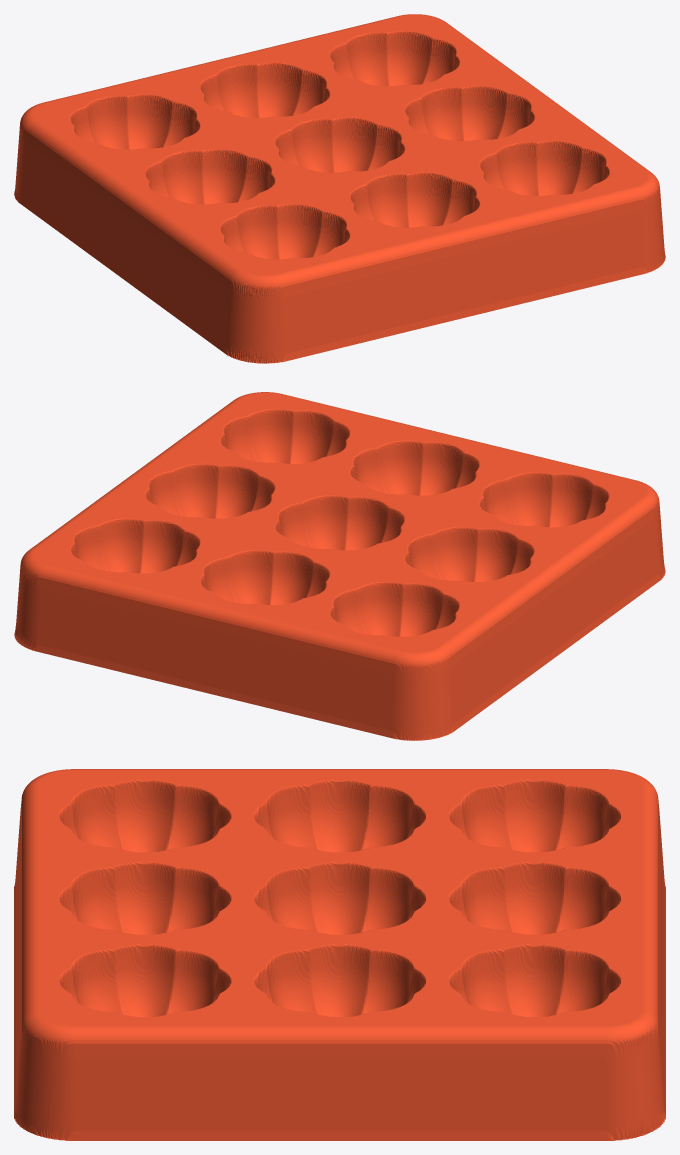
The model's file is mold.glb.
3 renders of one model, top to bottom at view 1: azimuth 30°, elevation 25°; view 2: azimuth 150°, elevation 25°; view 3: azimuth 270°, elevation 25°, orthographic. The views are drawn at different scales.
Parts seen in each view (by area): view 1: geometry_0; view 2: geometry_0; view 3: geometry_0.
Part boxes in pixels (<box>): geometry_0: <box>14,14,665,363</box>; geometry_0: <box>14,392,665,740</box>; geometry_0: <box>14,769,665,1140</box>.
Bounding box in the file's own units: 0.0984 × 0.0174 × 0.0984.
